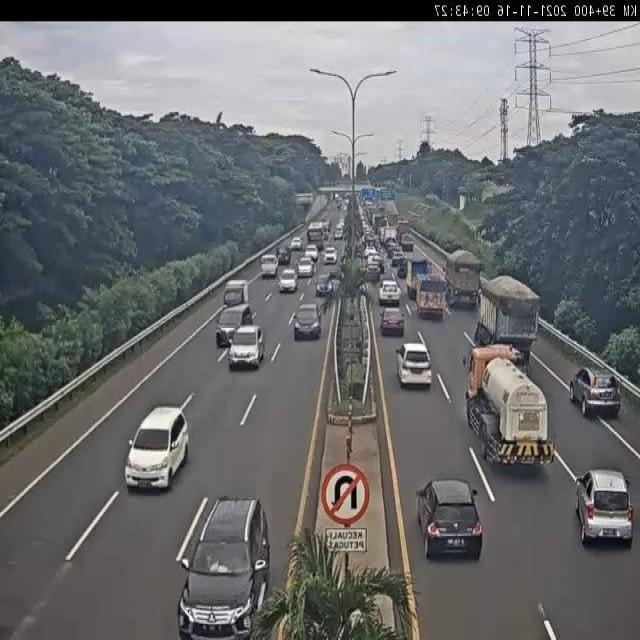Car: (178, 494, 271, 638), (124, 408, 190, 493), (418, 480, 483, 560), (575, 468, 633, 546), (568, 366, 621, 418), (216, 302, 255, 348), (228, 324, 266, 371), (395, 341, 432, 388), (293, 302, 323, 341), (380, 308, 404, 337), (378, 279, 401, 307), (278, 268, 298, 293), (260, 255, 279, 279), (315, 273, 334, 297), (296, 257, 314, 278), (276, 246, 292, 264), (304, 244, 318, 262), (324, 246, 337, 264), (290, 236, 302, 251)
Truck: (462, 345, 554, 463), (473, 274, 541, 359), (445, 248, 480, 310), (416, 270, 446, 320)
